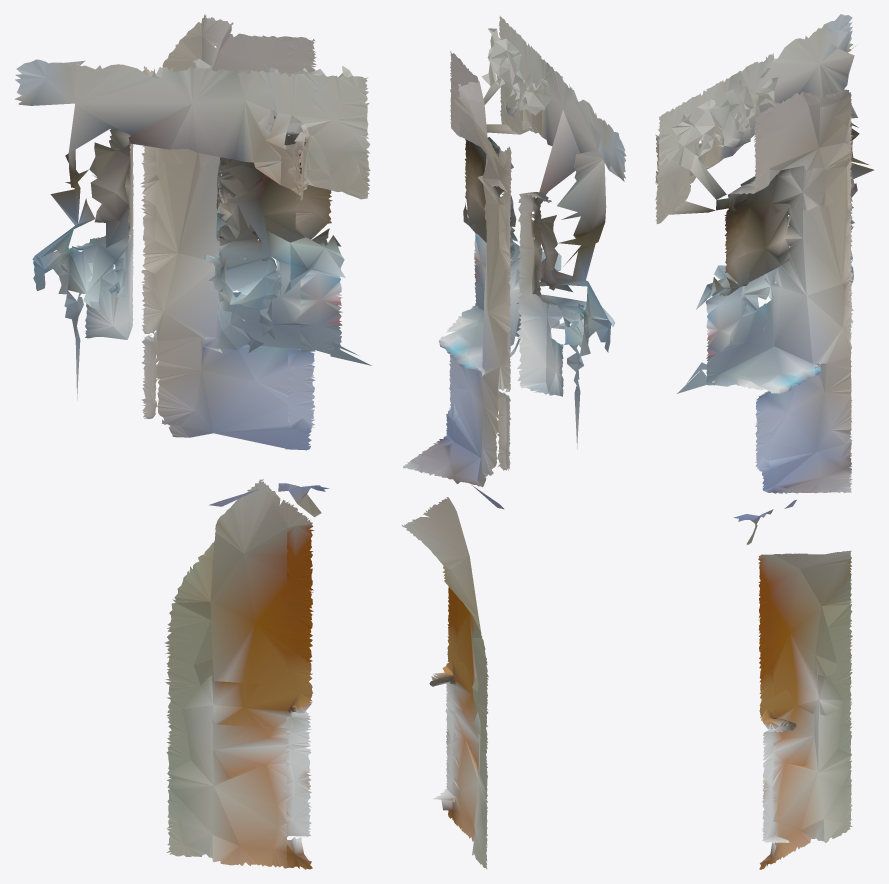
The picture shows the model from 3 angles, left to right: view 1: azimuth 30°, elevation 25°; view 2: azimuth 150°, elevation 25°; view 3: azimuth 270°, elevation 25°; orthographic projection. The views are drawn at different scales.
Size of the model in its own units: 2.45 by 7.5 by 1.98.
